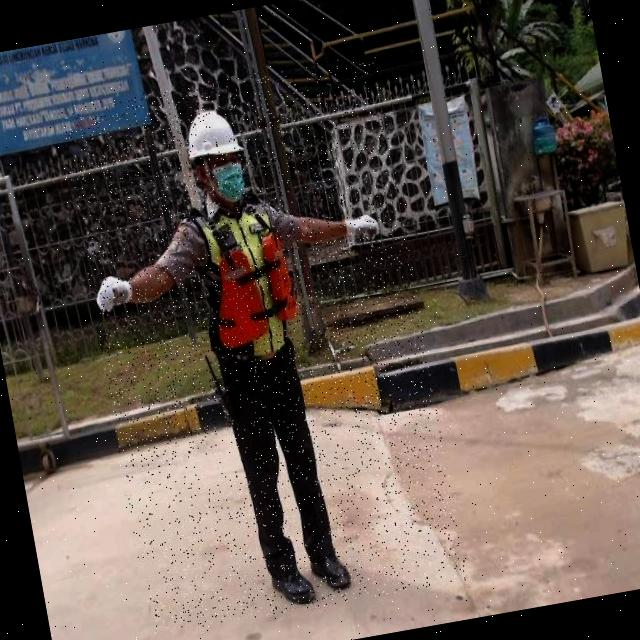boots: (268, 560, 318, 608), (310, 546, 356, 596)
helmet: (180, 104, 248, 168)
vest: (187, 189, 308, 359)
